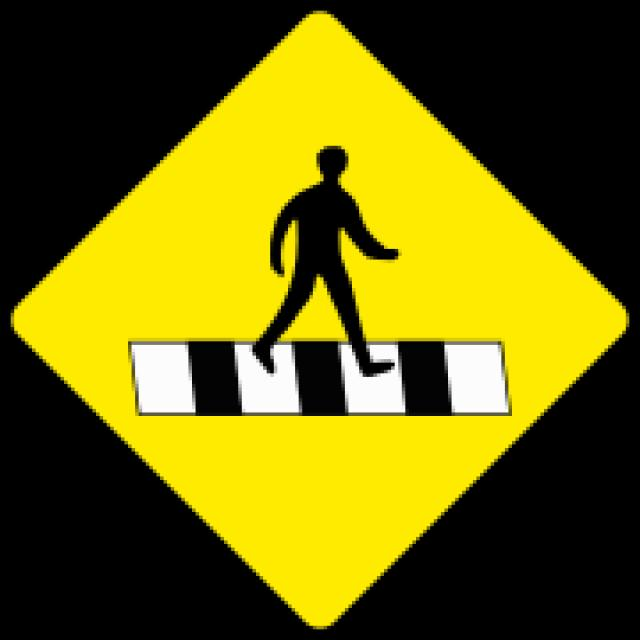Pedestrian crosswalk: (32, 24, 609, 608)
